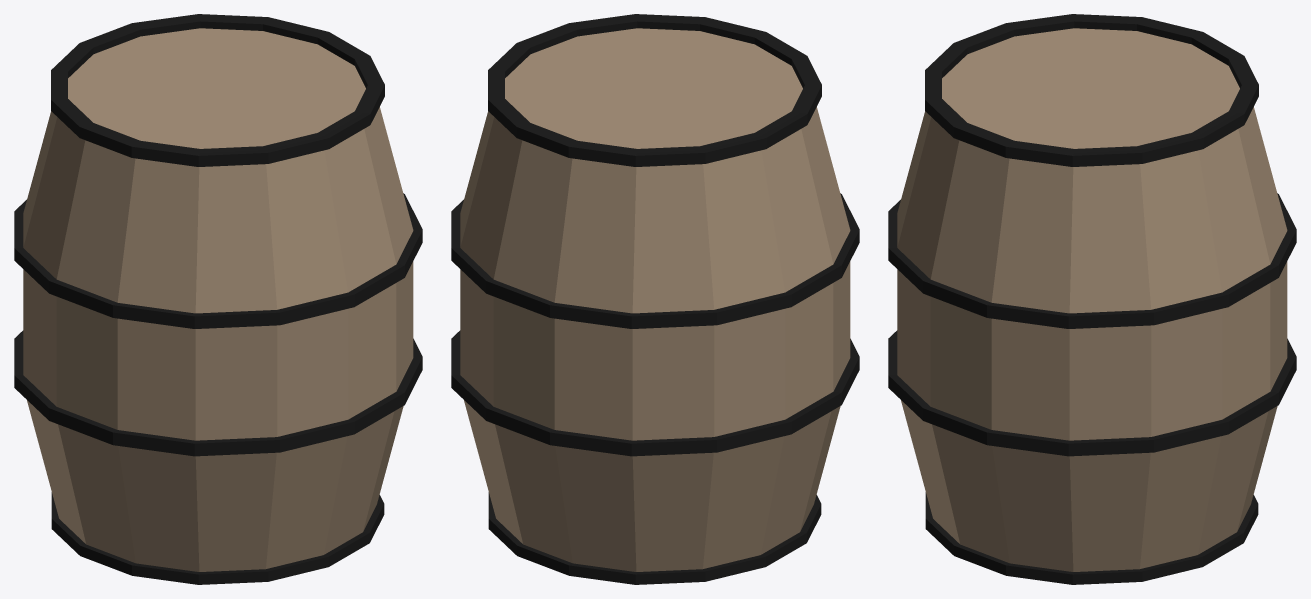
The model's file is ini gentong (liat pake mata).fbx.
3 views of the same model, side by side, from view 1: azimuth 30°, elevation 25°; view 2: azimuth 150°, elevation 25°; view 3: azimuth 270°, elevation 25° (orthographic).
Parts seen in each view (by area): view 1: Cylinder; view 2: Cylinder; view 3: Cylinder.
Part boxes in pixels (x1,y1,x2,y2): Cylinder: (14, 14, 422, 584); Cylinder: (451, 14, 859, 584); Cylinder: (888, 14, 1296, 584).
Bounding box in the file's own units: 208 × 240 × 207.
